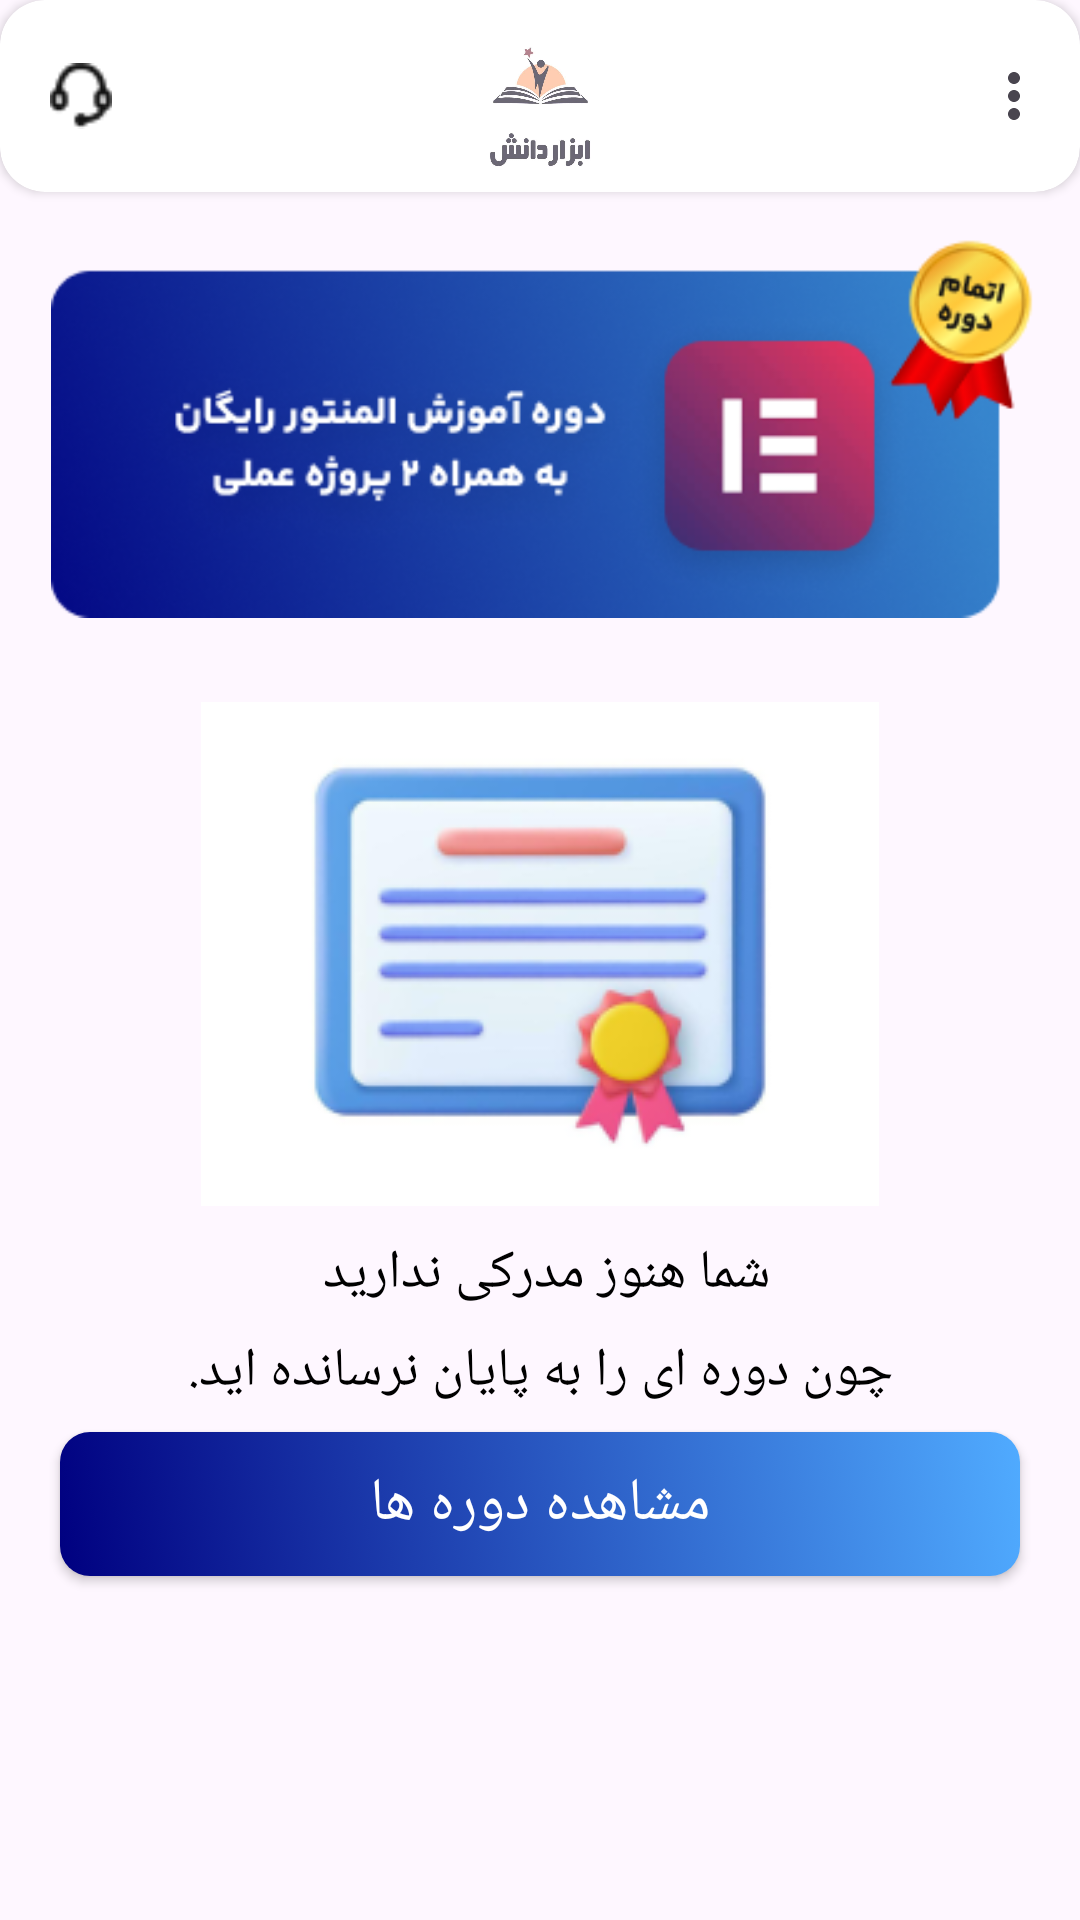

Named icons in this screenshot (1080*1920) and their bounding boxes, (x1, y1, x2, y2):
support: (50, 63, 112, 127)
